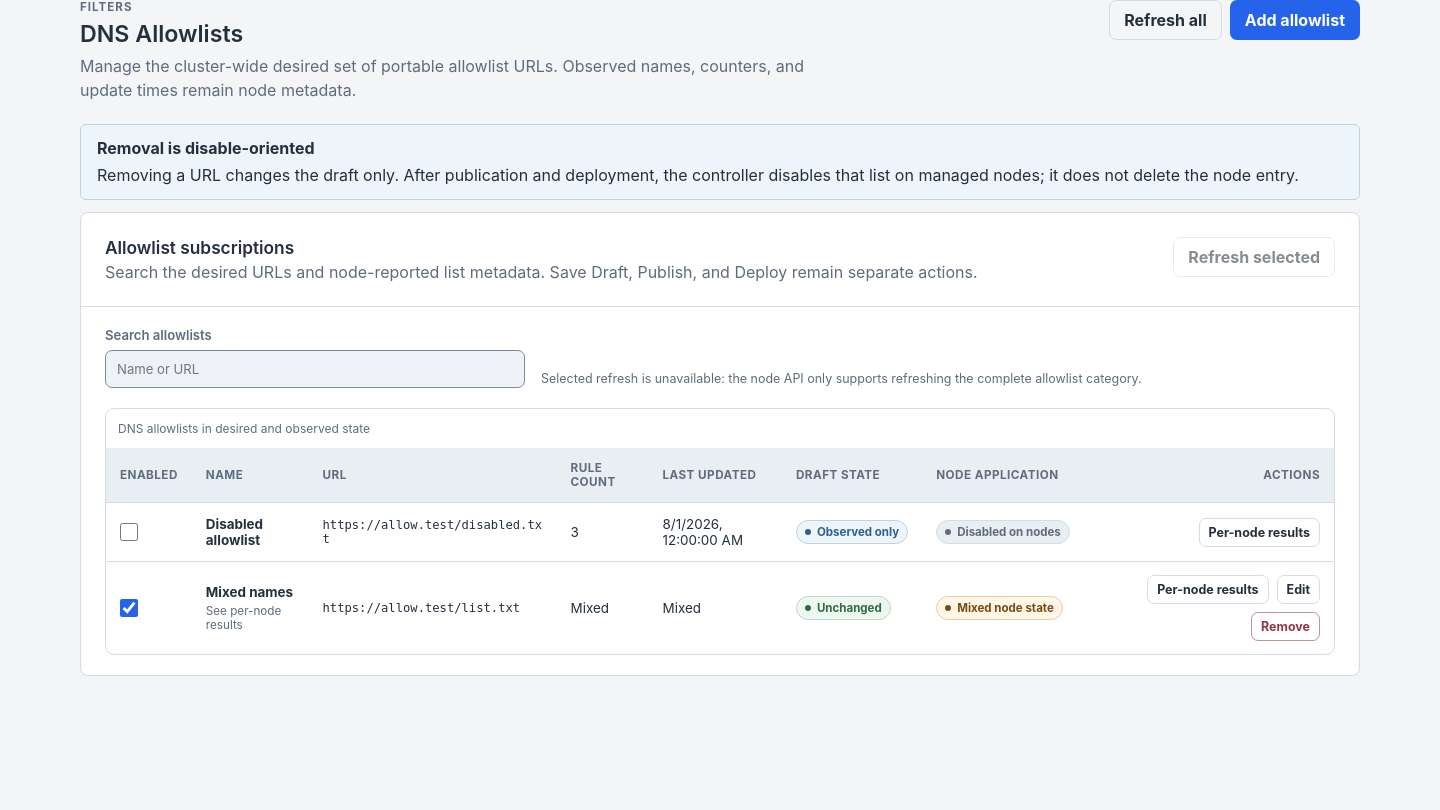
Test case: DNS allowlists page › uses whitelist=true for audited refresh-all and shows partial results
Click the button "Refresh all". click: (1166, 20)
box: [1109,0,1222,40]
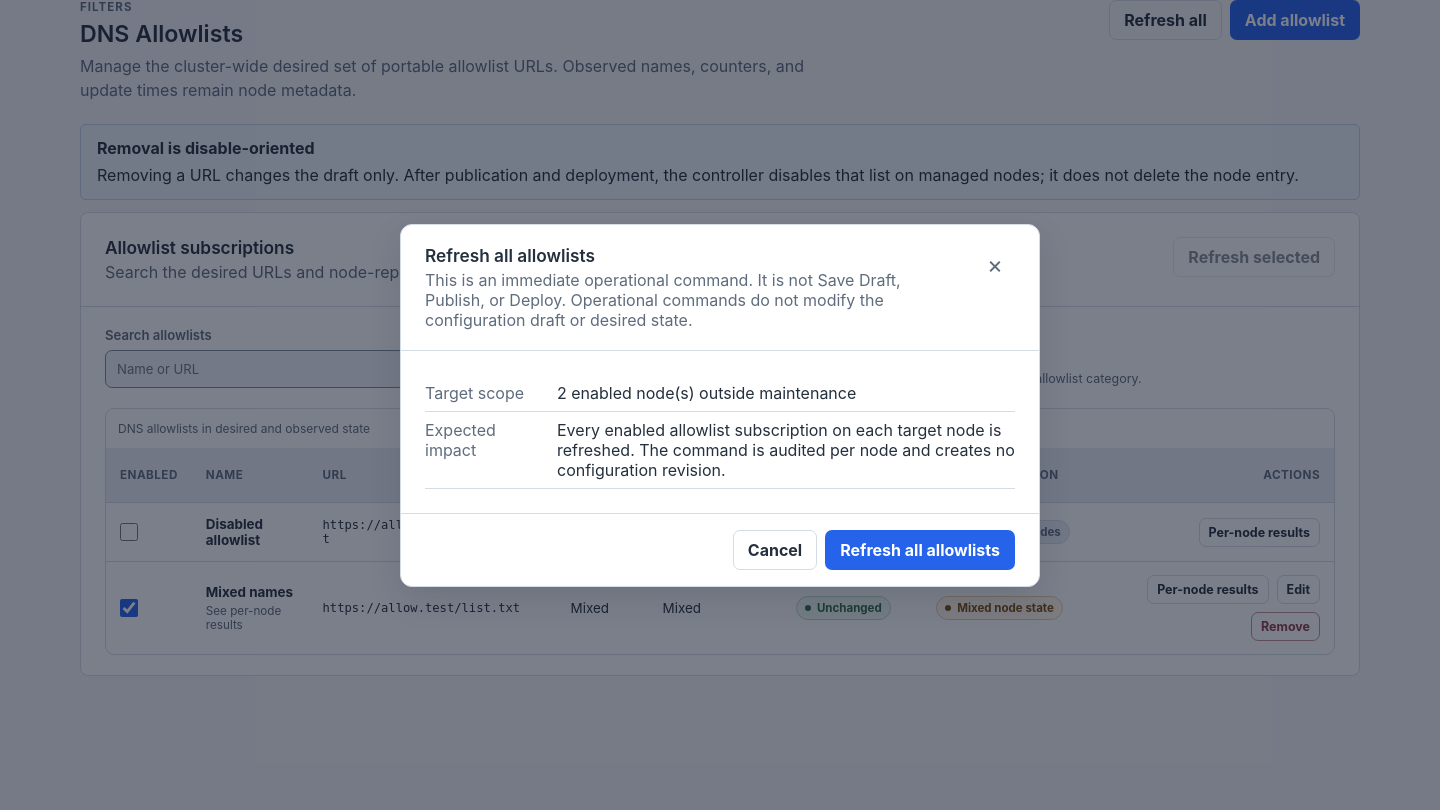
Check: the text "creates no configuration revision" is shown, box [557,420,1015,480]
Click the button "Refresh all allowlists". click: (920, 550)
box: [825,530,1015,570]
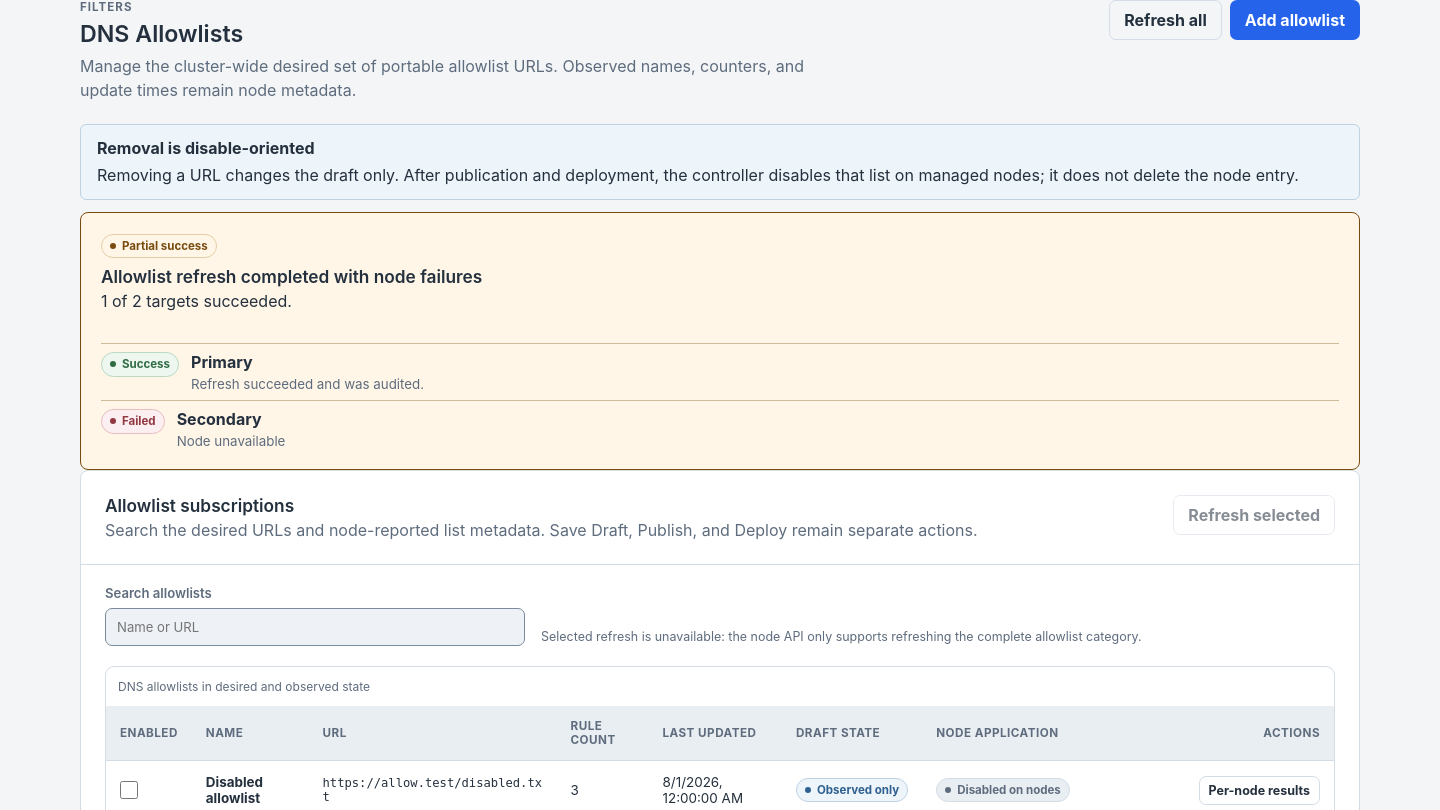
Check: the text "complete allowlist category" is shown, box [541,629,1142,644]
Check: the heading "Allowlist refresh completed with node failures" is shown, box [101,266,482,287]
Check: the text "Node unavailable" is shown, box [177,433,285,449]
